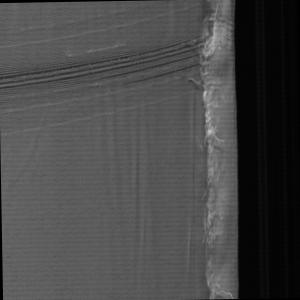Damage: (188, 1, 252, 300)
Wrinkle: (91, 74, 155, 285)
